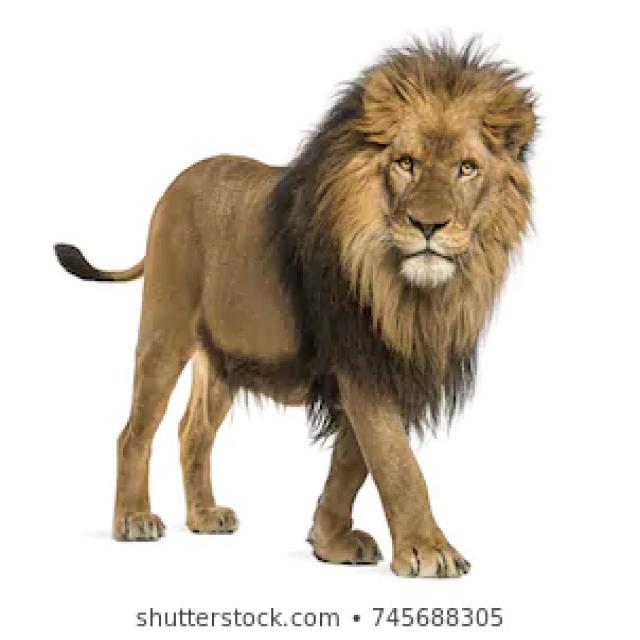Lion: (57, 41, 534, 576)
